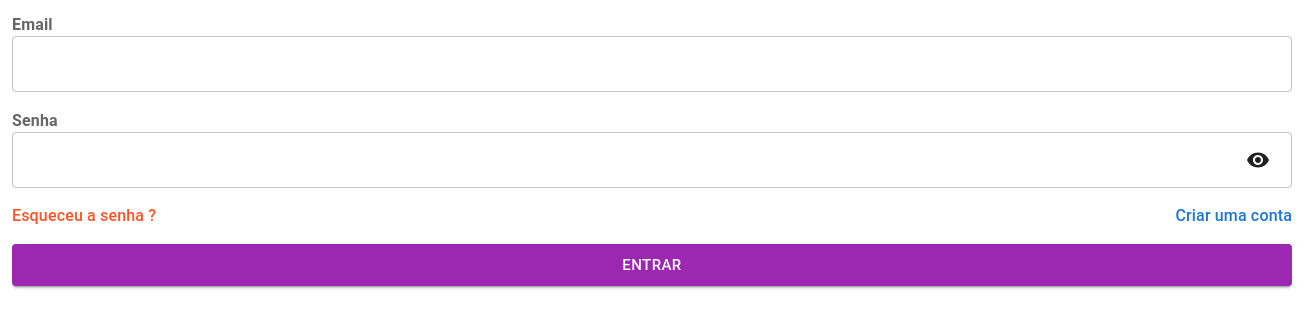
Test case: LoginForm › behavior › deve exibir erro de validação para senha menor que 8 caracteres
In the password field labelled "Senha": [621, 160] box [12, 132, 1230, 188], type "invalid"
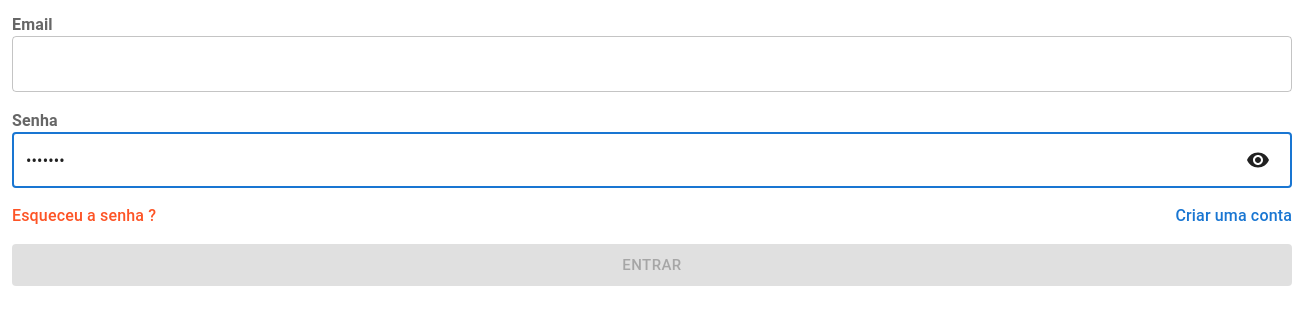
Press Tab
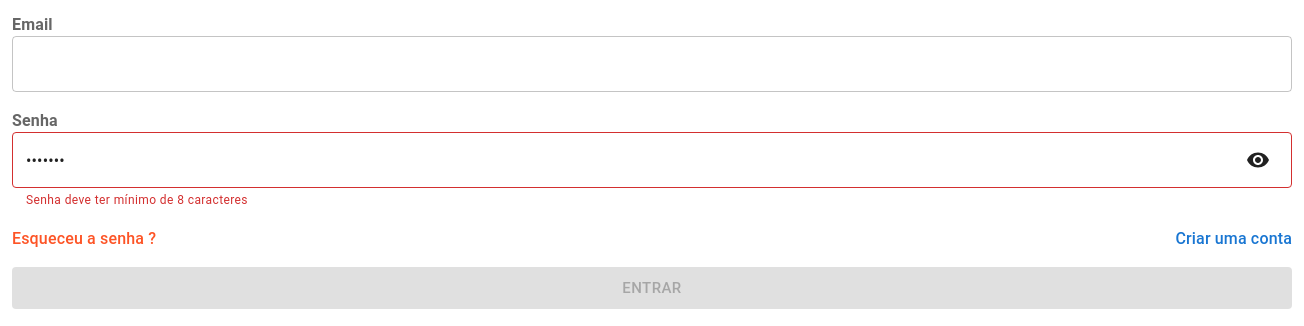
Result: the text "Senha deve ter mínimo de 8 caracteres" is shown at [26, 193, 248, 207]
